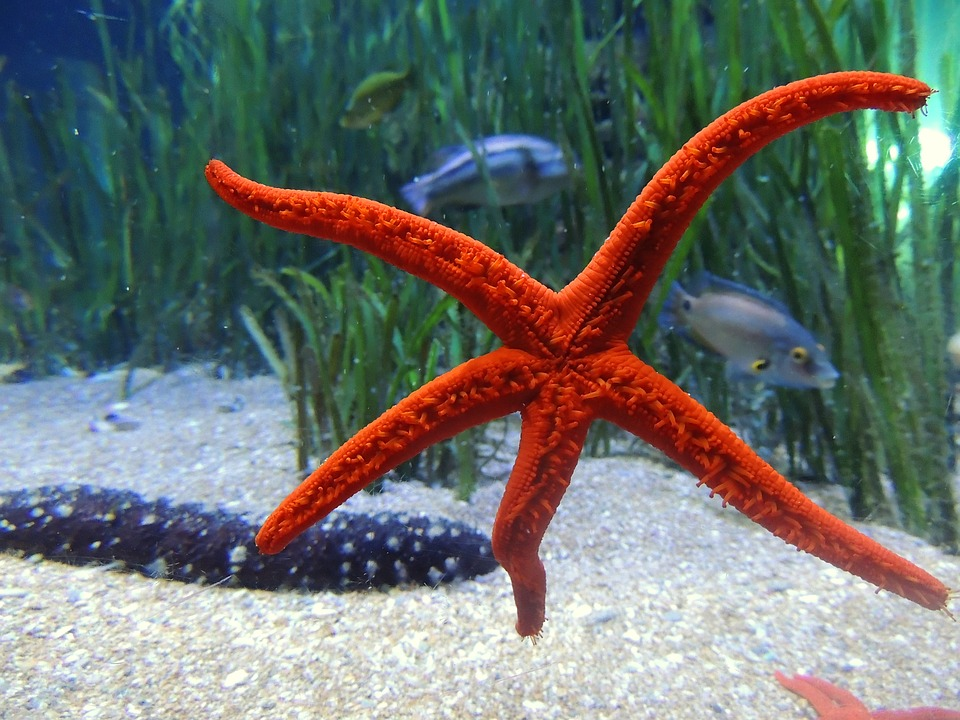fish: (671, 279, 856, 400), (391, 129, 600, 215), (333, 64, 430, 134)
starfish: (191, 53, 959, 665)
